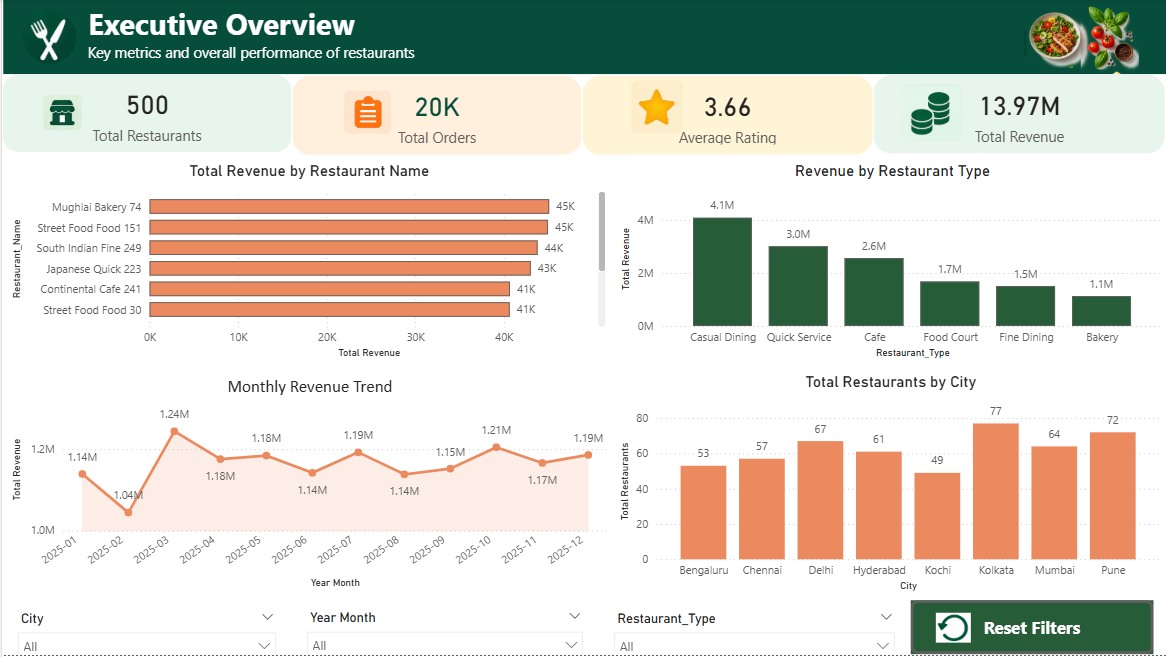

Layout of this report page (visuals, bound fields, positions):
{"tool":"powerbi","page":{"name":"Executive Overview","canvas":[1280,720],"ordinal":0},"visuals":[{"type":"actionButton","box":[0,0,100,40],"z":0},{"type":"card","fields":{"Values":["restaurants.Total Restaurants"]},"box":[0,82.3,318.4,86.4],"z":1000},{"type":"card","fields":{"Values":["orders.Total Orders"]},"box":[318.4,83.7,318.4,87.8],"z":2000},{"type":"card","fields":{"Values":["restaurants.Average Rating"]},"box":[636.7,83.7,319.7,87.8],"z":3000},{"type":"card","fields":{"Values":["orders.Total Revenue"]},"box":[956.4,82.3,321.1,87.8],"z":4000},{"type":"lineChart","title":"Monthly Revenue Trend","fields":{"Category":["Date_Table.Year Month"],"Y":["orders.Total Revenue"]},"box":[0,404.8,669.6,253.9],"z":5000},{"type":"clusteredBarChart","title":"Total Revenue by Restaurant Name","fields":{"Category":["restaurants.Restaurant_Name"],"Y":["orders.Total Revenue"]},"box":[0,171.5,668.3,233.3],"z":6000},{"type":"clusteredColumnChart","title":"Revenue by Restaurant Type","fields":{"Category":["restaurants.Restaurant_Type"],"Y":["orders.Total Revenue"]},"box":[668.3,171.5,612,233.3],"z":7000},{"type":"slicer","fields":{"Values":["locations.City"]},"box":[0,658.7,318.4,61.7],"z":8000},{"type":"slicer","fields":{"Values":["restaurants.Restaurant_Type"]},"box":[654.5,658.7,343.1,59],"z":9000},{"type":"slicer","fields":{"Values":["Date_Table.Year Month"]},"box":[318.4,658.7,336.2,61.7],"z":10000},{"type":"actionButton","box":[997.6,660,266.2,59],"z":11000},{"type":"clusteredColumnChart","fields":{"Category":["locations.City"],"Y":["restaurants.Total Restaurants"]},"box":[669.6,404.8,607.9,253.9],"z":12000},{"type":"textbox","box":[1.4,0,1278.9,82.3],"z":13000},{"type":"image","box":[5.5,6.9,89.2,68.6],"z":14000},{"type":"image","box":[1114.2,6.9,82.3,68.6],"z":15000},{"type":"image","box":[1155.4,0,122.1,82.3],"z":16000},{"type":"image","box":[37,101.5,57.6,45.3],"z":17000},{"type":"image","box":[367.8,96.1,65.9,56.3],"z":18000},{"type":"image","box":[684.7,83.7,67.2,68.6],"z":19000},{"type":"image","box":[982.5,87.8,72.7,74.1],"z":20000},{"type":"image","box":[1019.6,673.8,49.4,32.9],"z":21000}]}

Visuals, with their boxes in screenshot pixels (x1, y1, x2, y2), scaled from the page's 1280x720 canvas onto the 1166x657 screenshot:
actionButton: box=[0, 0, 91, 36]
card - restaurants.Total Restaurants: box=[0, 75, 290, 154]
card - orders.Total Orders: box=[290, 76, 580, 156]
card - restaurants.Average Rating: box=[580, 76, 871, 156]
card - orders.Total Revenue: box=[871, 75, 1164, 155]
"Monthly Revenue Trend" lineChart: box=[0, 369, 610, 601]
"Total Revenue by Restaurant Name" clusteredBarChart: box=[0, 156, 609, 369]
"Revenue by Restaurant Type" clusteredColumnChart: box=[609, 156, 1165, 369]
slicer - locations.City: box=[0, 601, 290, 656]
slicer - restaurants.Restaurant_Type: box=[596, 601, 909, 655]
slicer - Date_Table.Year Month: box=[290, 601, 596, 656]
actionButton: box=[909, 602, 1151, 656]
clusteredColumnChart - locations.City x restaurants.Total Restaurants: box=[610, 369, 1164, 601]
textbox: box=[1, 0, 1165, 75]
image: box=[5, 6, 86, 69]
image: box=[1015, 6, 1090, 69]
image: box=[1052, 0, 1164, 75]
image: box=[34, 93, 86, 134]
image: box=[335, 88, 395, 139]
image: box=[624, 76, 685, 139]
image: box=[895, 80, 961, 148]
image: box=[929, 615, 974, 645]
